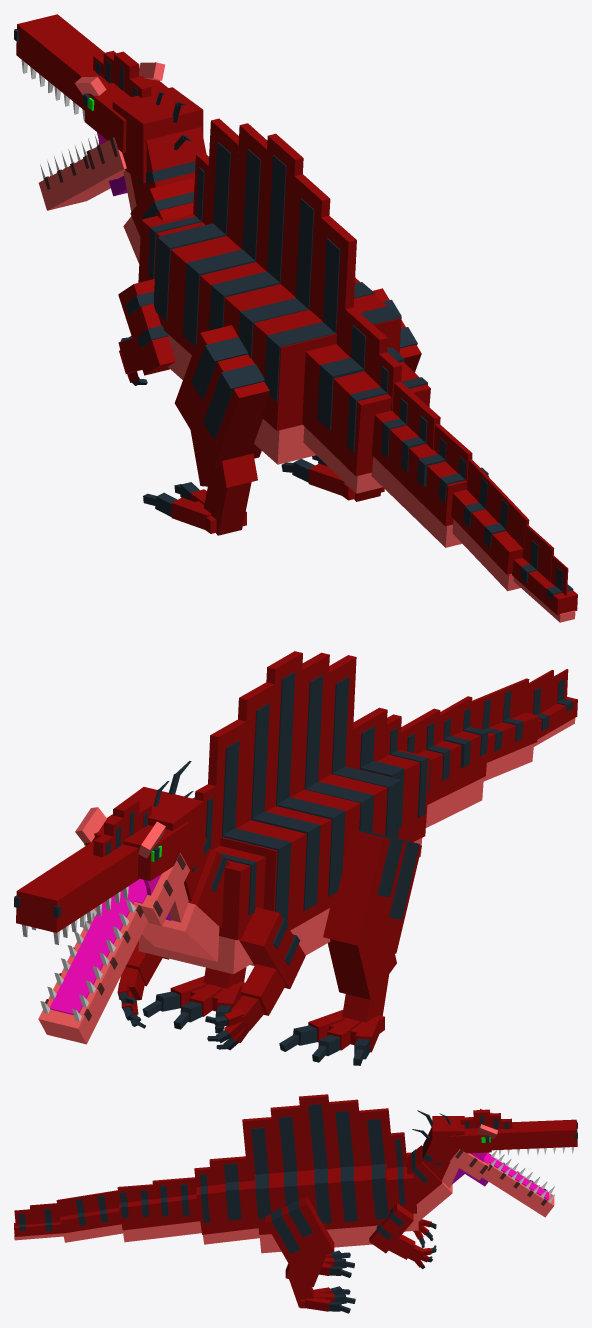
Rendered from spinosaurus_2.obj.
3 views of the same model, one above another, from view 1: azimuth 30°, elevation 25°; view 2: azimuth 150°, elevation 25°; view 3: azimuth 270°, elevation 25° (orthographic). The views are drawn at different scales.
Parts seen in each view (by area): view 1: torso, add, tail01, tail02, leg_L, tail03, mouth, leg_L_Hand, tail04, neck2, arm_L, neck1 (+3 smaller); view 2: torso, add, mouth, leg_L, tail02, tail01, tail03, neck1, leg_L_Hand, leg_R_Hand, arm_L, leg_L_lower (+6 smaller); view 3: torso, add, tail01, tail02, leg_R, mouth, tail03, neck1, tail04, leg_R_Hand, arm_R, neck2 (+5 smaller).
Part boxes in pixels (x1=…): torso: x1=138, y1=118, x2=401, y2=464; add: x1=14, y1=14, x2=203, y2=183; tail01: x1=302, y1=307, x2=430, y2=493; tail02: x1=371, y1=381, x2=488, y2=547; leg_L: x1=174, y1=325, x2=269, y2=468; tail03: x1=451, y1=459, x2=529, y2=591; mouth: x1=38, y1=132, x2=127, y2=210; leg_L_Hand: x1=143, y1=482, x2=251, y2=535; tail04: x1=512, y1=525, x2=577, y2=622; neck2: x1=123, y1=127, x2=206, y2=211; arm_L: x1=118, y1=279, x2=175, y2=375; neck1: x1=123, y1=178, x2=194, y2=263; torso: x1=138, y1=651, x2=401, y2=974; add: x1=14, y1=761, x2=203, y2=944; mouth: x1=38, y1=853, x2=189, y2=1044; leg_L: x1=323, y1=830, x2=421, y2=953; tail02: x1=400, y1=696, x2=488, y2=827; tail01: x1=351, y1=707, x2=430, y2=856; tail03: x1=471, y1=678, x2=539, y2=781; neck1: x1=142, y1=849, x2=230, y2=961; leg_L_Hand: x1=279, y1=975, x2=388, y2=1065; leg_R_Hand: x1=142, y1=967, x2=246, y2=1033; arm_L: x1=239, y1=907, x2=305, y2=988; leg_L_lower: x1=327, y1=939, x2=396, y2=999; torso: x1=242, y1=1094, x2=418, y2=1253; add: x1=412, y1=1108, x2=577, y2=1162; tail01: x1=194, y1=1156, x2=259, y2=1244; tail02: x1=117, y1=1177, x2=201, y2=1242; leg_R: x1=265, y1=1196, x2=334, y2=1270; mouth: x1=449, y1=1149, x2=554, y2=1217; tail03: x1=56, y1=1190, x2=122, y2=1242; neck1: x1=407, y1=1145, x2=452, y2=1221; tail04: x1=14, y1=1203, x2=63, y2=1240; leg_R_Hand: x1=289, y1=1279, x2=355, y2=1313; arm_R: x1=369, y1=1203, x2=413, y2=1253; neck2: x1=422, y1=1127, x2=466, y2=1188.
Bounding box in the file's own units: 6.56 × 10.41 × 27.78.
